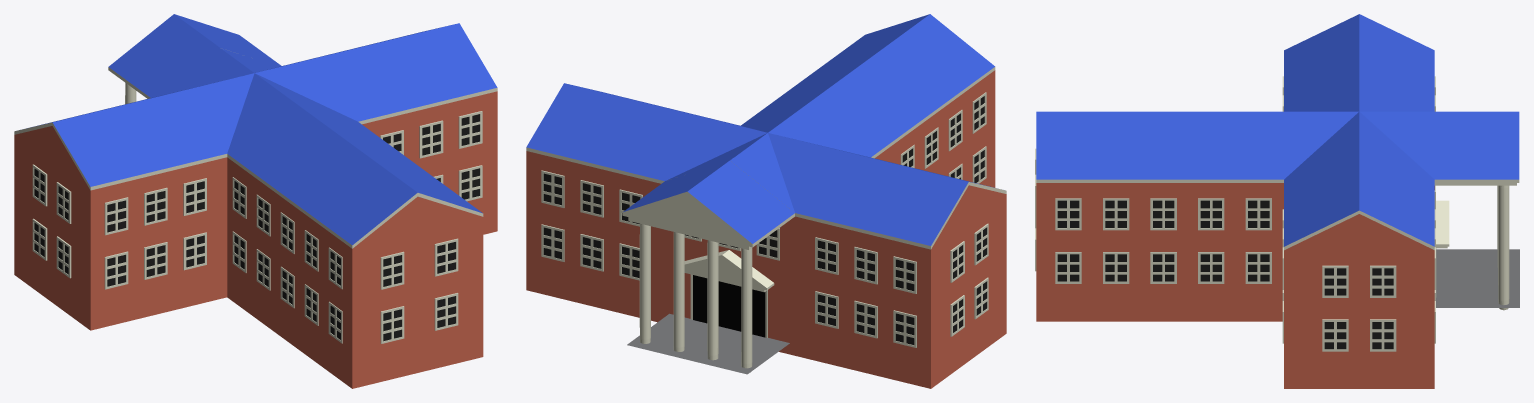
File: Chetuk Hall.fbx
The picture shows the model from 3 angles, left to right: view 1: azimuth 30°, elevation 25°; view 2: azimuth 150°, elevation 25°; view 3: azimuth 270°, elevation 25°; orthographic projection.
Parts seen in each view (by area): view 1: Chetuck Hall; view 2: Chetuck Hall; view 3: Chetuck Hall.
Boxes of the visible parts, x1=… form: Chetuck Hall: x1=14, y1=14, x2=497, y2=388; Chetuck Hall: x1=526, y1=14, x2=1006, y2=388; Chetuck Hall: x1=1035, y1=14, x2=1519, y2=388.
Bounding box in the file's own units: 269 × 113 × 279.
